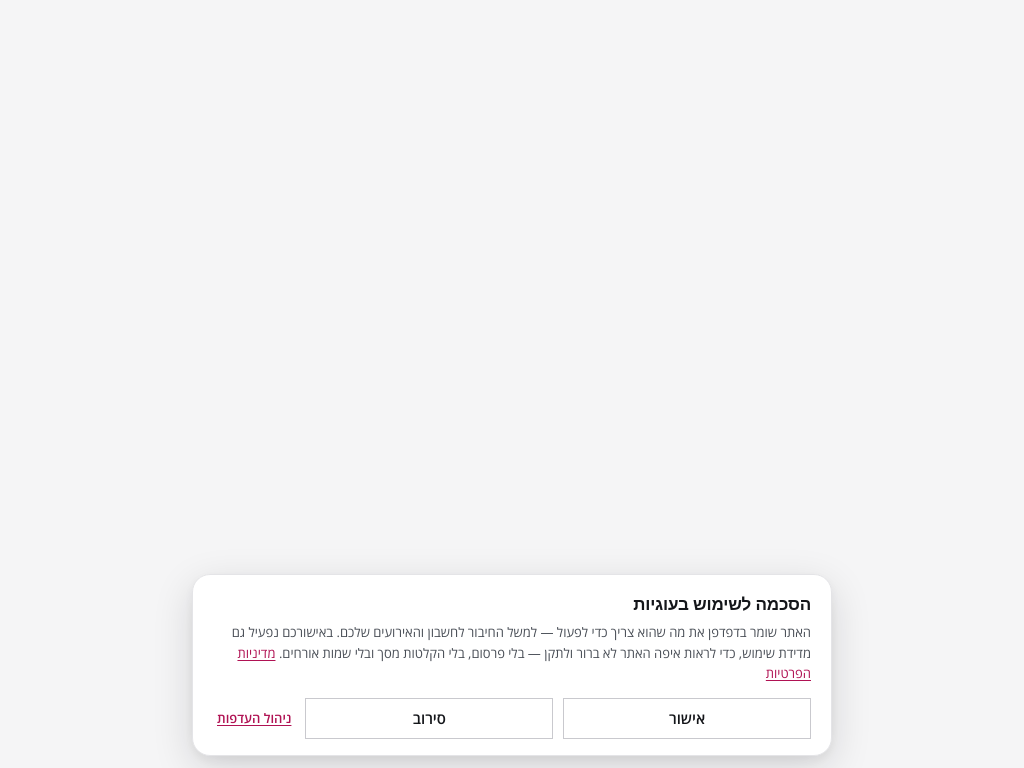
Test: the preferences › Escape closes without deciding — the question is still there
Click the button "ניהול העדפות": (254, 719) left=213, top=703, right=295, bottom=734
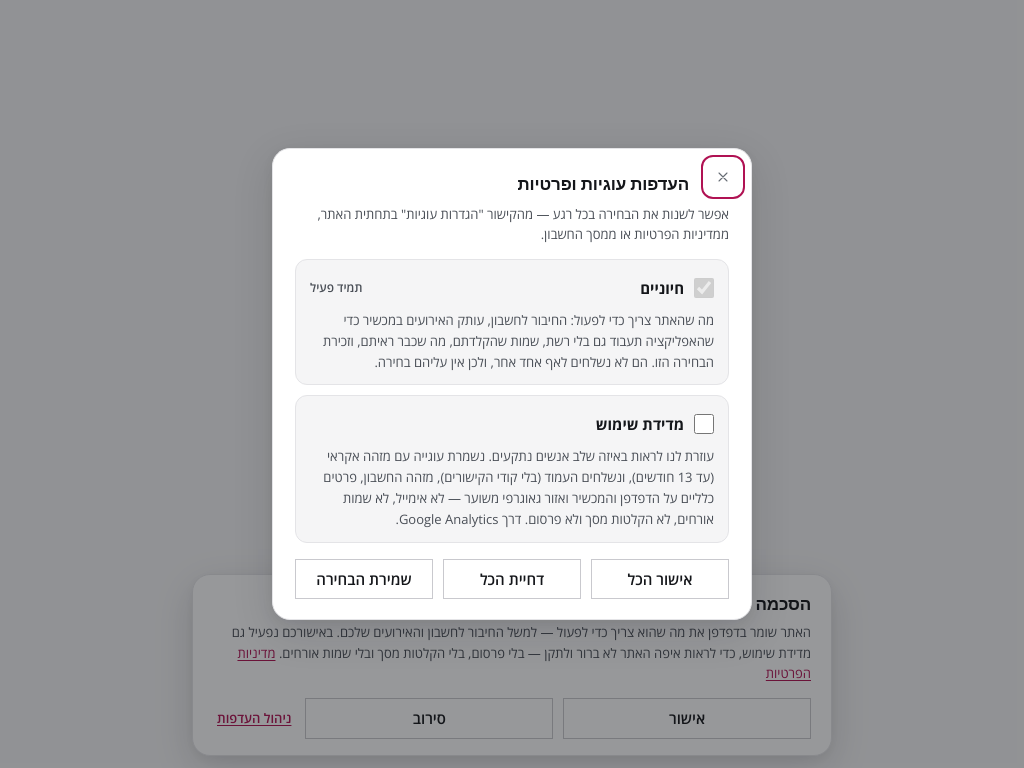
Press Escape
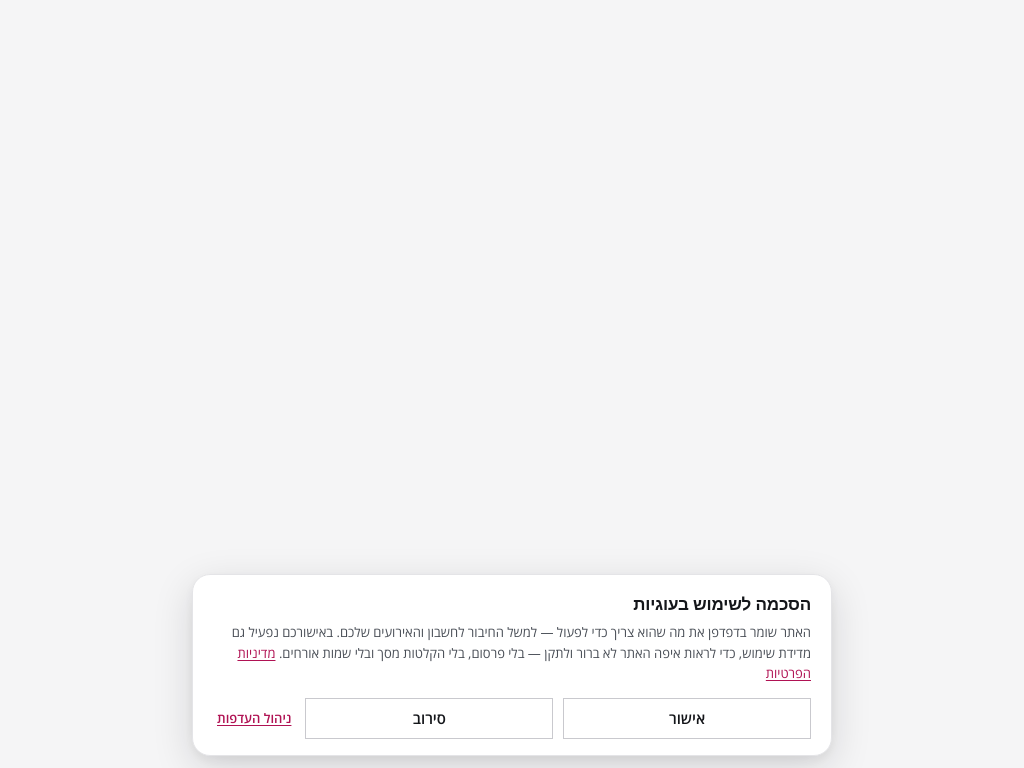
Check: the element "הסכמה לשימוש בעוגיות" is shown, box left=192, top=574, right=832, bottom=756
Check: the dialog is gone
